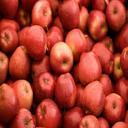apple: (9, 108, 35, 128)
